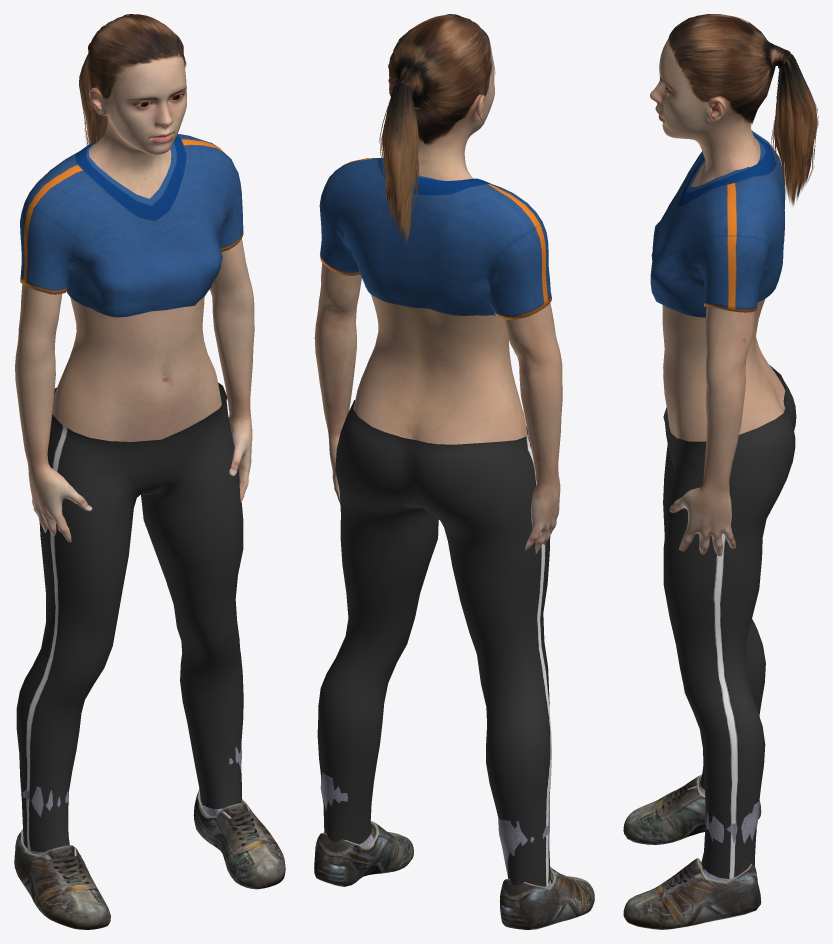
The model's file is athlete.glb.
3 renders of one model, left to right at view 1: azimuth 30°, elevation 25°; view 2: azimuth 150°, elevation 25°; view 3: azimuth 270°, elevation 25°, orthographic. The views are drawn at different scales.
Parts seen in each view (by area): view 1: athlete_Human.female_sportsuit01, athlete_Human, athlete_Human.shoes02, athlete_Human.ponytail01; view 2: athlete_Human.female_sportsuit01, athlete_Human, athlete_Human.ponytail01, athlete_Human.shoes02; view 3: athlete_Human.female_sportsuit01, athlete_Human, athlete_Human.ponytail01, athlete_Human.shoes02.
Part boxes in pixels (x1=…): athlete_Human.female_sportsuit01: x1=16, y1=134, x2=243, y2=852; athlete_Human: x1=15, y1=54, x2=254, y2=542; athlete_Human.shoes02: x1=14, y1=743, x2=285, y2=929; athlete_Human.ponytail01: x1=79, y1=14, x2=186, y2=145; athlete_Human.female_sportsuit01: x1=317, y1=158, x2=551, y2=886; athlete_Human: x1=314, y1=46, x2=562, y2=553; athlete_Human.ponytail01: x1=379, y1=14, x2=492, y2=244; athlete_Human.shoes02: x1=314, y1=772, x2=594, y2=929; athlete_Human.female_sportsuit01: x1=650, y1=130, x2=796, y2=878; athlete_Human: x1=650, y1=38, x2=785, y2=556; athlete_Human.ponytail01: x1=668, y1=14, x2=818, y2=205; athlete_Human.shoes02: x1=623, y1=774, x2=761, y2=929.
Bounding box in the file's own units: 0.4239 × 1.47 × 0.301.
Materials: 6 (6 with a texture image).
